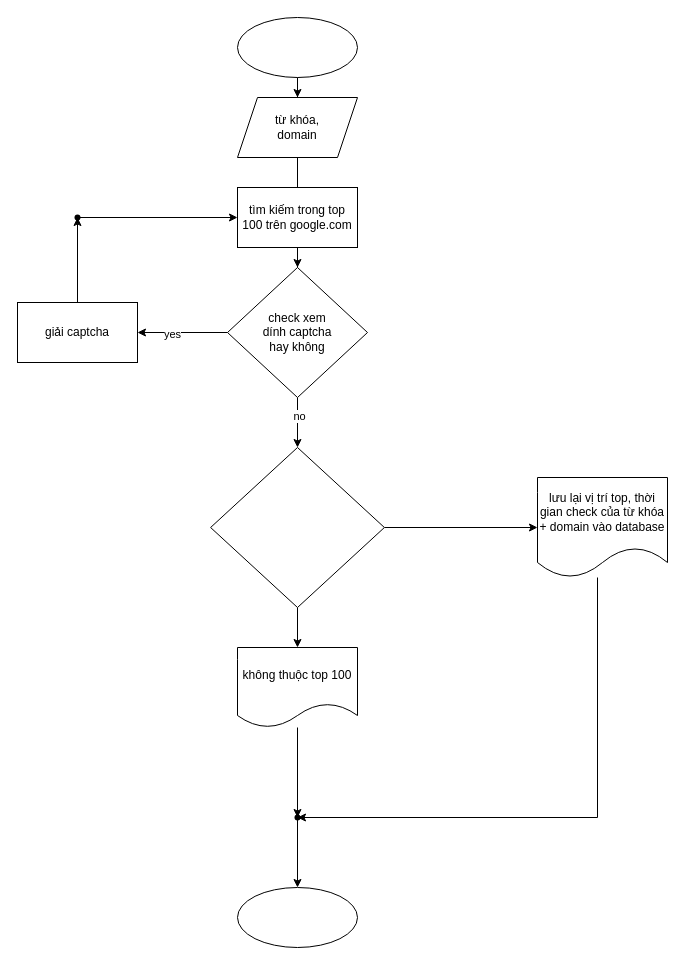
The diagram is 685 pixels wide and 965 high, and some of its shapes have lost their labels. Each missing label, with the centre of its shape:
bắt đầu: the point at 297,47
kết thúc: the point at 297,917
tìm thấy domain trong top 100 với từ khóa đó: the point at 297,527
